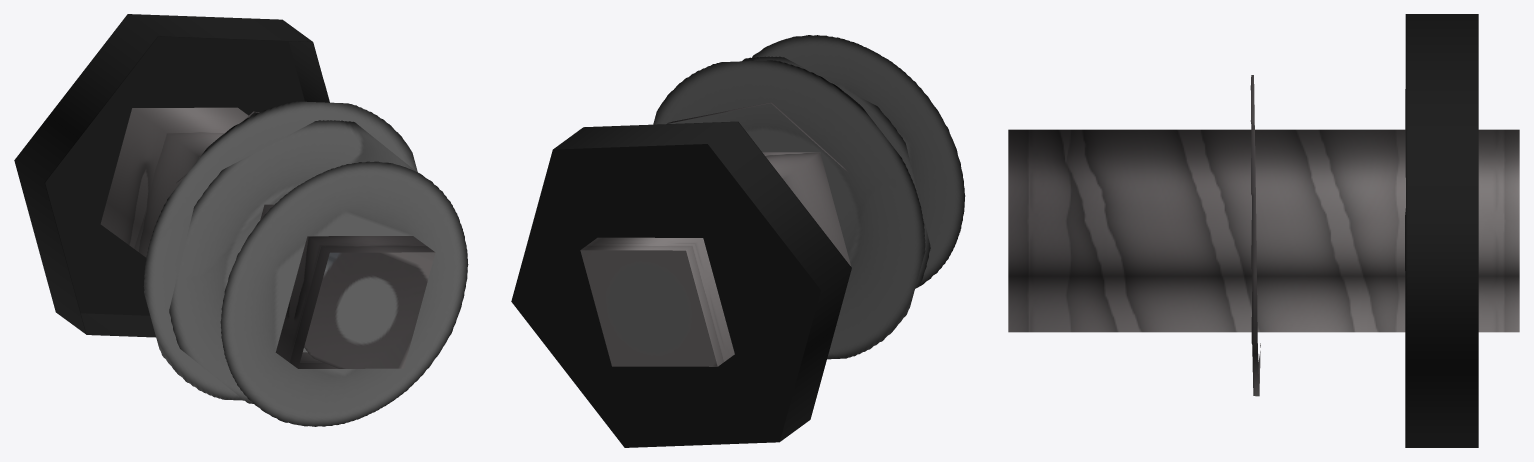
File: obj_interactive_suspensionoffroad_02_on_lod1.fbx
3 renders of one model, left to right at view 1: azimuth 30°, elevation 25°; view 2: azimuth 150°, elevation 25°; view 3: azimuth 270°, elevation 25°, orthographic. The views are drawn at different scales.
Parts seen in each view (by area): view 1: obj_interactive_suspensionoffroad_02_on_lod1; view 2: obj_interactive_suspensionoffroad_02_on_lod1; view 3: obj_interactive_suspensionoffroad_02_on_lod1.
Part boxes in pixels (<box>): obj_interactive_suspensionoffroad_02_on_lod1: <box>14,14,468,426</box>; obj_interactive_suspensionoffroad_02_on_lod1: <box>511,35,965,447</box>; obj_interactive_suspensionoffroad_02_on_lod1: <box>1008,14,1519,447</box>.
Size of the model in its own units: 1.02 by 1.02 by 1.23.
Materials: 1 (1 with a texture image).
